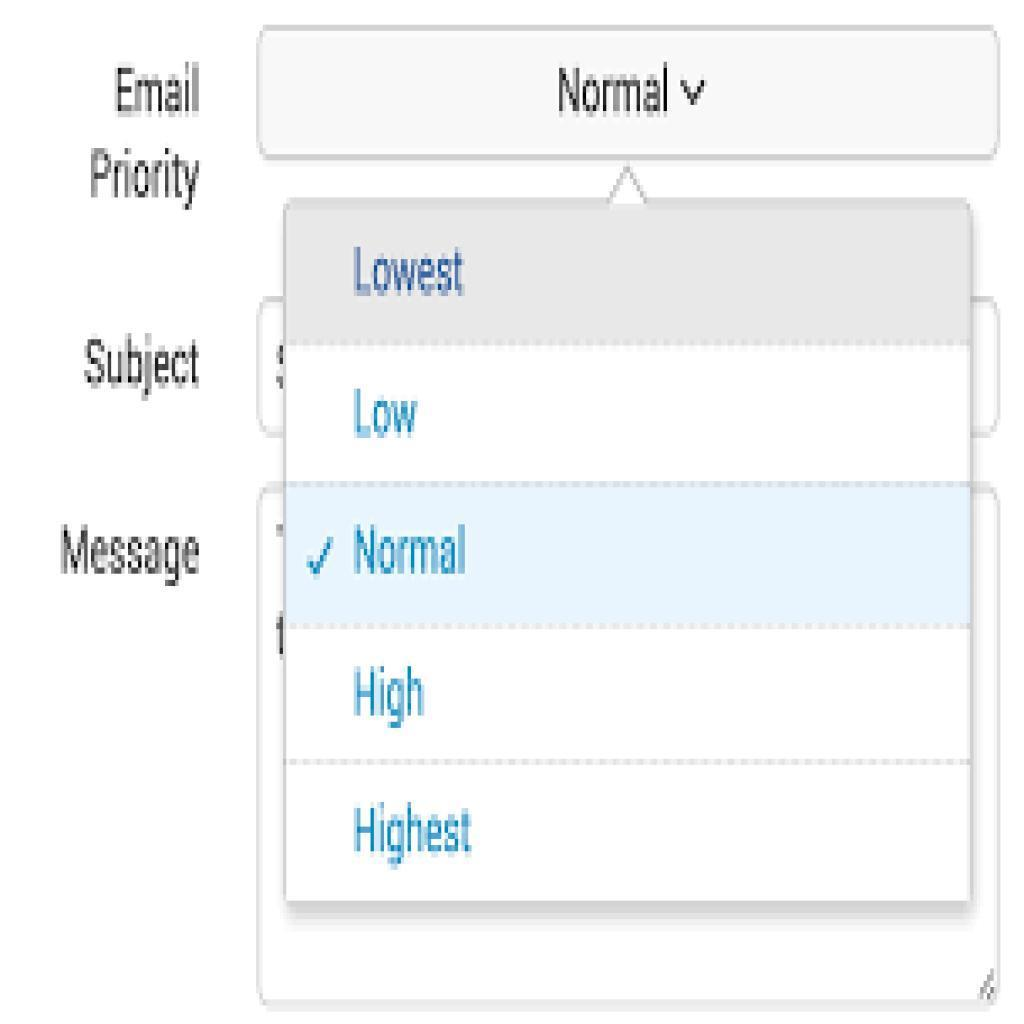dropdown: (260, 28, 1002, 158)
